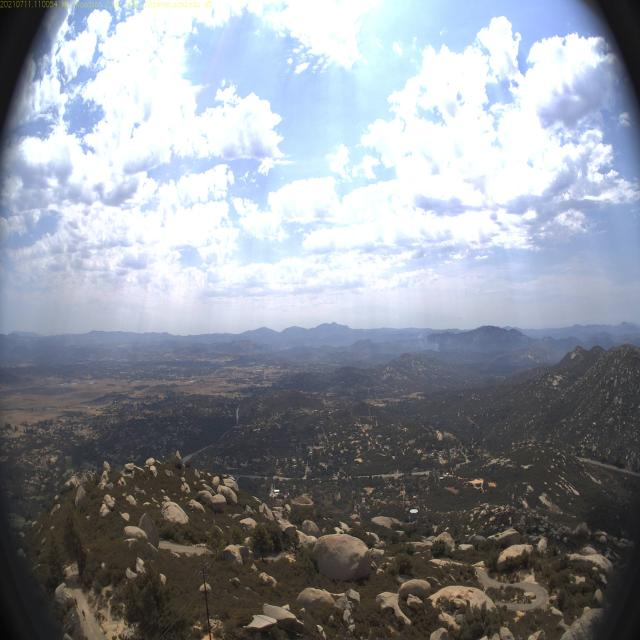smoke: (412, 332, 428, 349), (430, 339, 440, 354)
